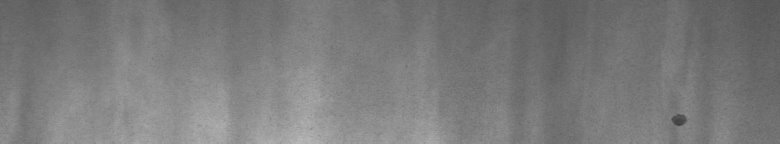fi: (668, 108, 691, 132)
